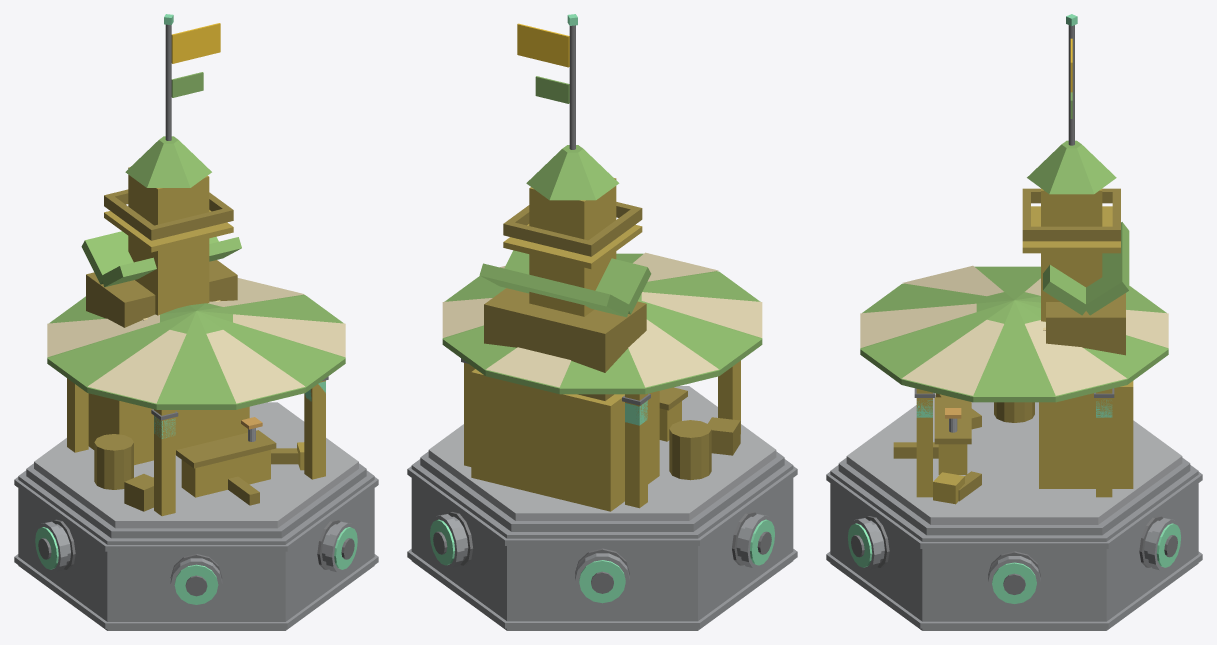
The model's file is trading_post_s3_100.glb.
3 renders of one model, left to right at view 1: azimuth 30°, elevation 25°; view 2: azimuth 150°, elevation 25°; view 3: azimuth 270°, elevation 25°, orthographic. The views are drawn at different scales.
Visible parts, largest first — view 1: TradingPost_s3; view 2: TradingPost_s3; view 3: TradingPost_s3.
Boxes of the visible parts, x1,y1,x2,y2 form: TradingPost_s3: [14, 14, 378, 630]; TradingPost_s3: [407, 14, 797, 630]; TradingPost_s3: [826, 14, 1202, 630].
Bounding box in the file's own units: 1.78 × 2.95 × 1.84.
